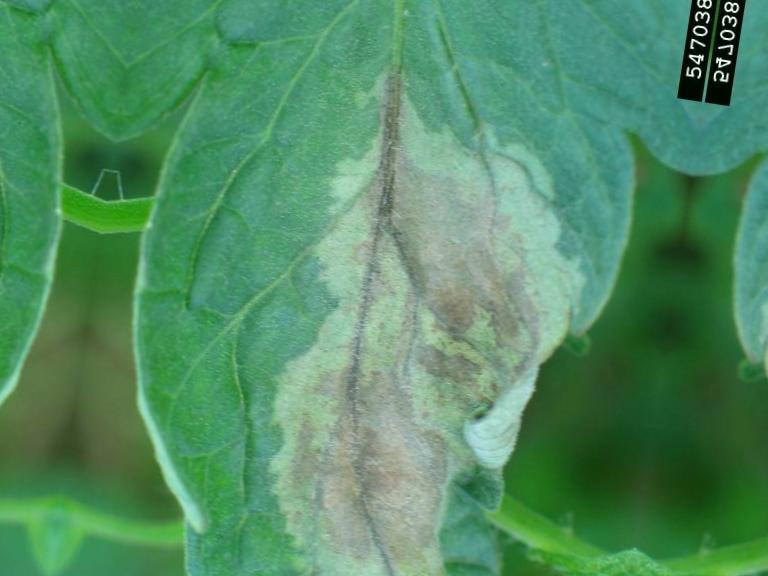Tomato leaf late blight: (78, 0, 683, 576)
